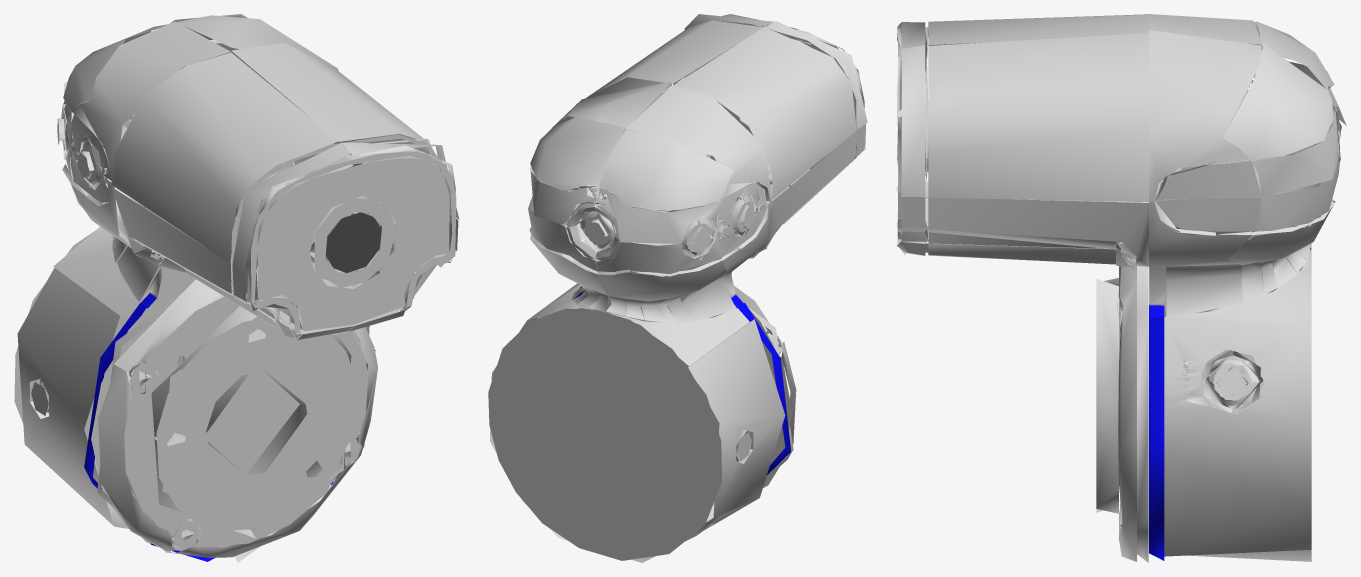
Rendered from tmr_ee.obj.
The picture shows the model from 3 angles, left to right: view 1: azimuth 30°, elevation 25°; view 2: azimuth 150°, elevation 25°; view 3: azimuth 270°, elevation 25°; orthographic projection. The views are drawn at different scales.
Parts seen in each view (by area): view 1: tmr_ee; view 2: tmr_ee; view 3: tmr_ee.
Boxes of the visible parts, bbox=[...] form: tmr_ee: bbox=[14, 14, 459, 562]; tmr_ee: bbox=[488, 14, 867, 562]; tmr_ee: bbox=[896, 14, 1346, 562].
Size of the model in its own units: 0.0888 by 0.1524 by 0.1188.
